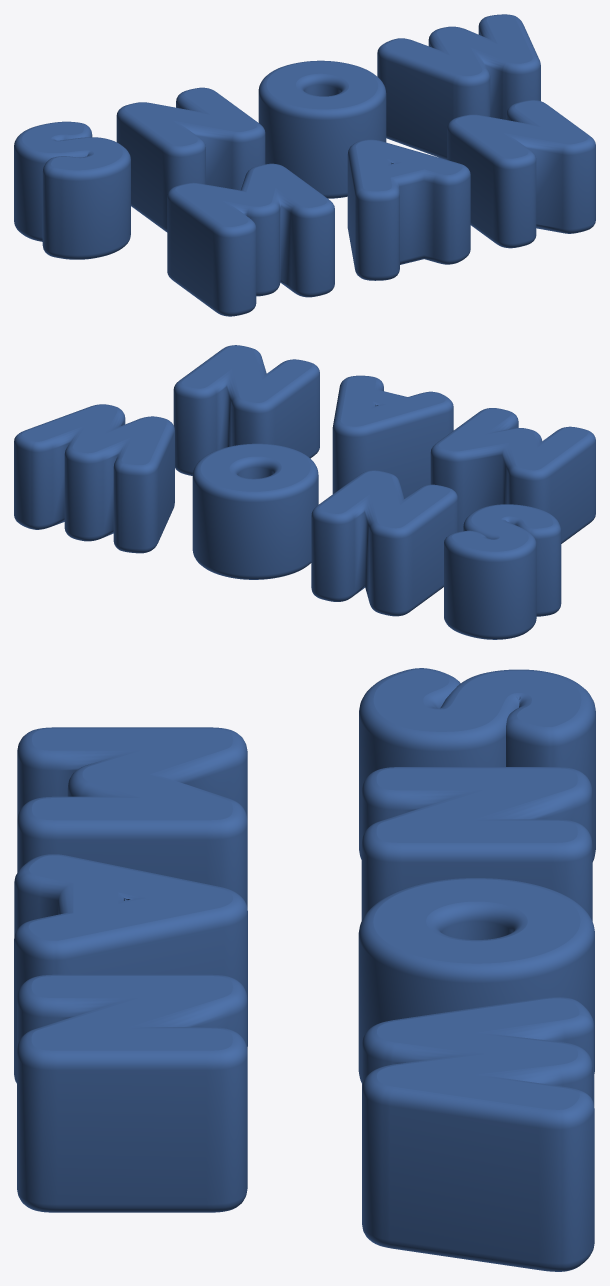
The model's file is Snowman.fbx.
3 renders of one model, top to bottom at view 1: azimuth 30°, elevation 25°; view 2: azimuth 150°, elevation 25°; view 3: azimuth 270°, elevation 25°, orthographic. The views are drawn at different scales.
Parts seen in each view (by area): view 1: Text.010; view 2: Text.010; view 3: Text.010.
Part boxes in pixels (left/top/right/bottom): Text.010: left=14, top=14, right=595, bottom=316; Text.010: left=14, top=345, right=595, bottom=639; Text.010: left=14, top=668, right=595, bottom=1271.
Size of the model in its own units: 218 by 36 by 118.
